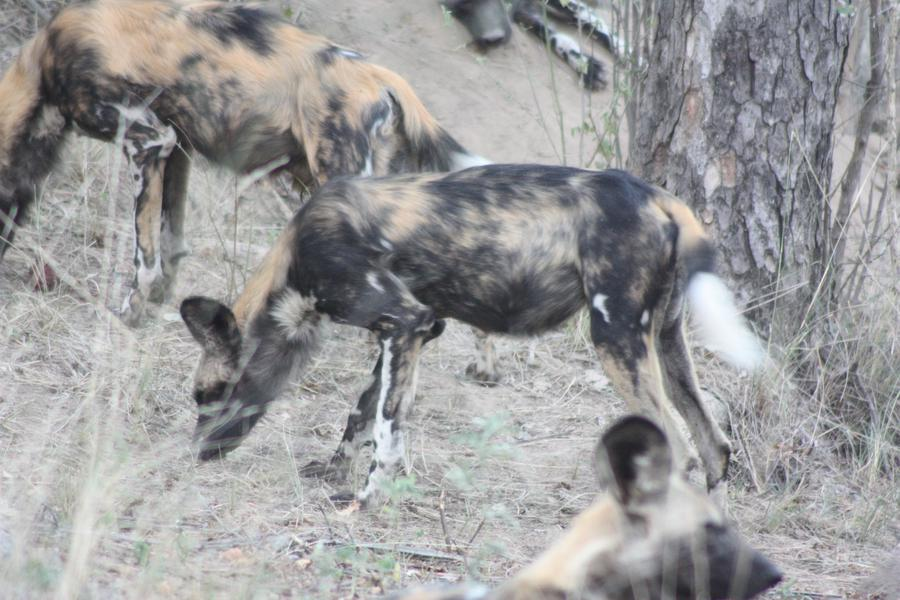wilddog: (217, 174, 702, 441), (8, 21, 464, 165), (523, 473, 785, 598)
